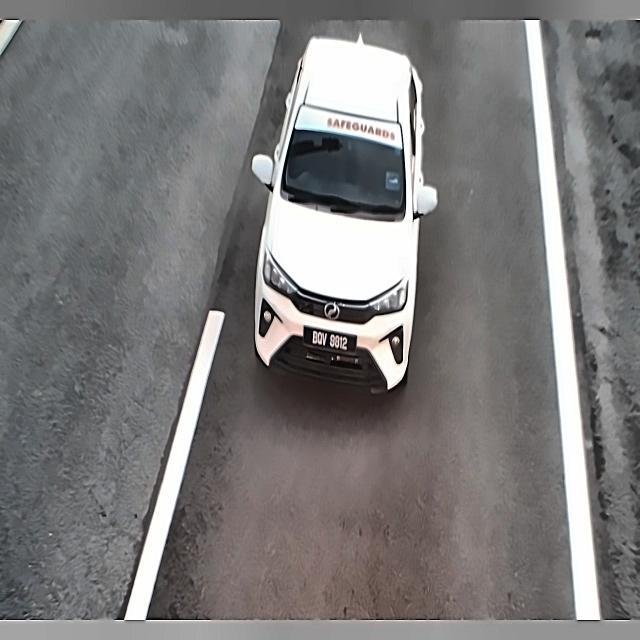car: (300, 314, 364, 363)
